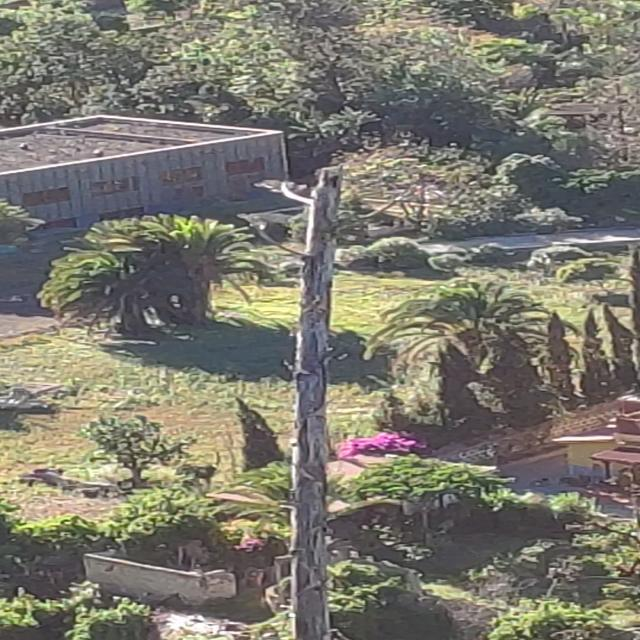Palm-Trees: (49, 243, 186, 334)
